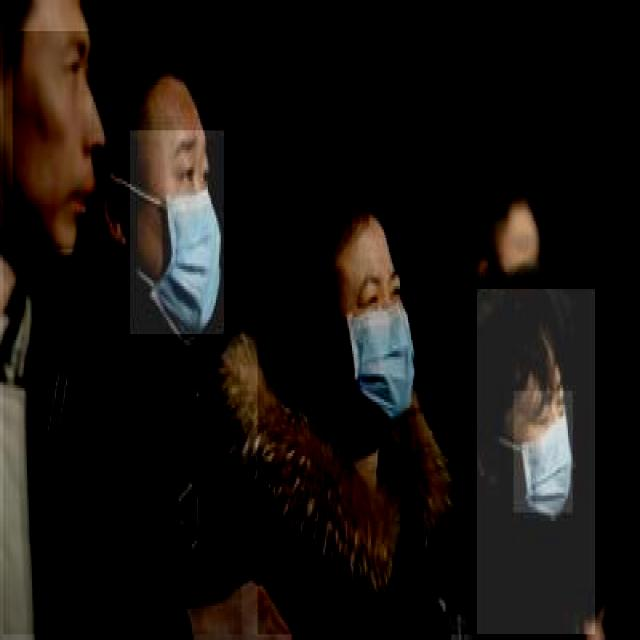face_mask: (128, 130, 224, 337), (340, 260, 418, 416), (514, 390, 572, 512)
face_nomask: (11, 31, 110, 252)
head_nohelmet: (474, 258, 577, 362), (126, 56, 216, 138), (317, 196, 398, 260)
person: (256, 190, 472, 637), (2, 0, 138, 637), (91, 74, 242, 637), (475, 289, 595, 637)
